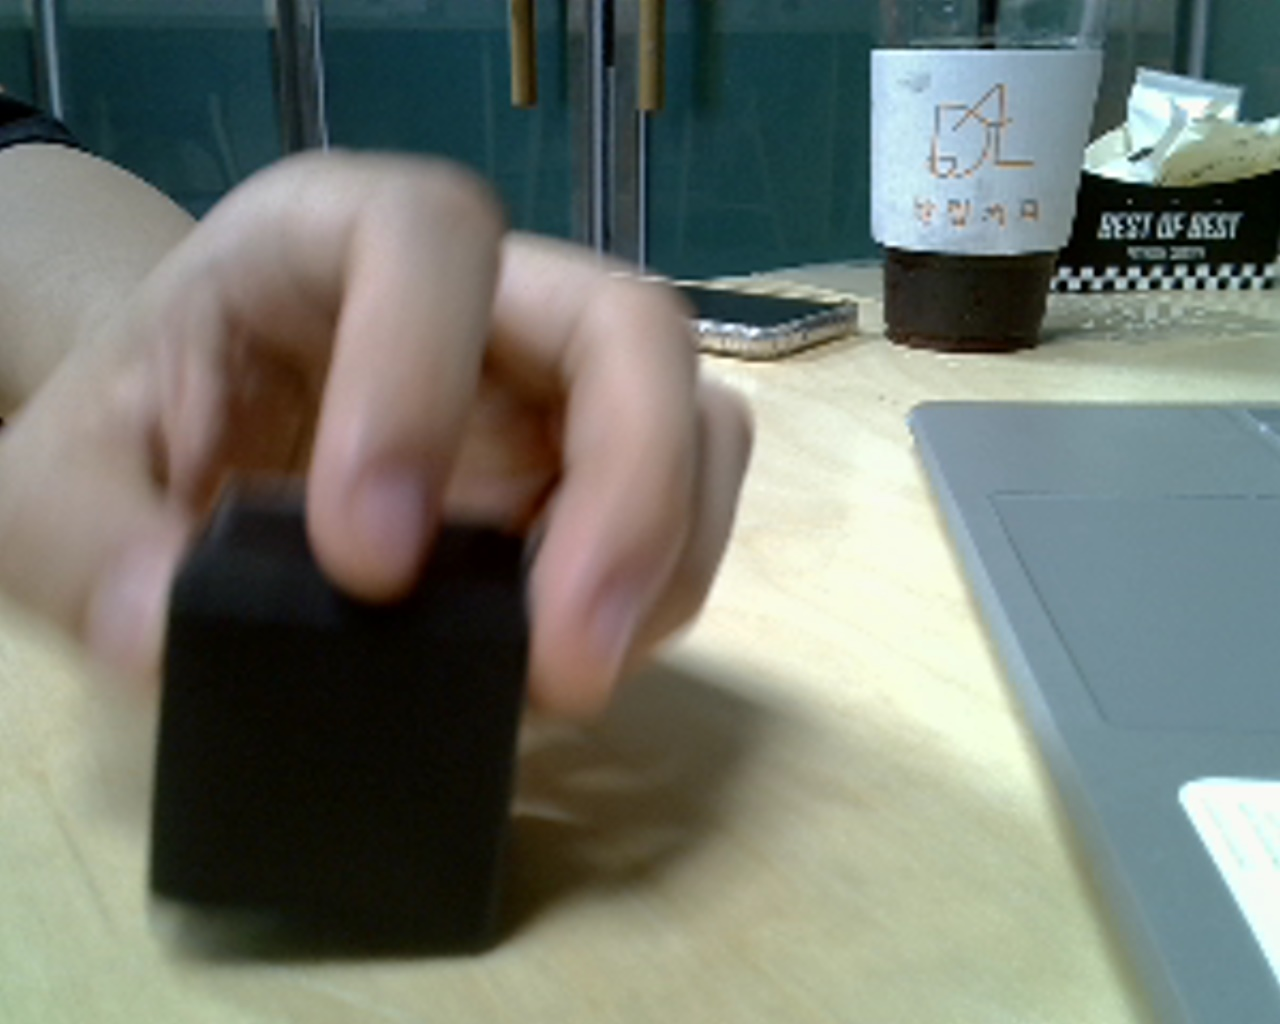blackbox: (85, 423, 575, 973)
